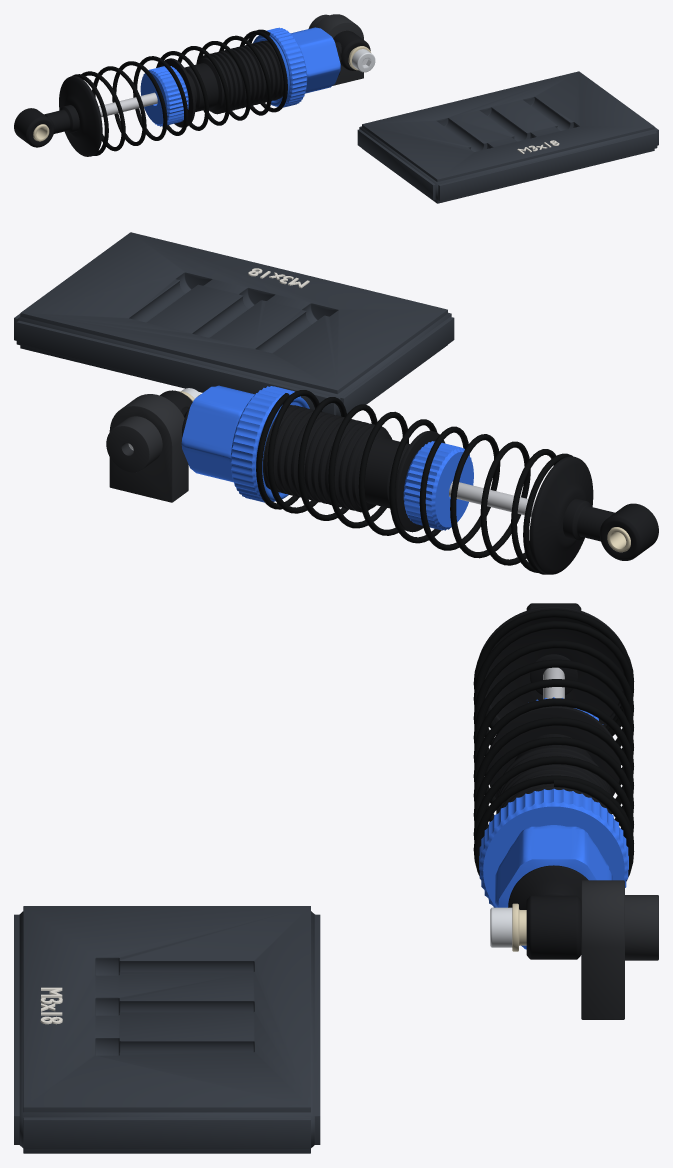
File: shock-stage1.glb
3 views of the same model, one above another, from view 1: azimuth 30°, elevation 25°; view 2: azimuth 150°, elevation 25°; view 3: azimuth 270°, elevation 25° (orthographic). The views are drawn at different scales.
Parts seen in each view (by area): view 1: tray, FTX6204_spring, FTX6208_body, FTX6212_cup, FTX6210_cap, FTX6211_nut, FTX6212_ring, tower_ear_stub_GUESS, FTX6500_eye, FTX6500_neck, FTX6210_eye, FTX6211_washer (+3 smaller); view 2: tray, FTX6204_spring, FTX6208_body, tower_ear_stub_GUESS, FTX6212_cup, FTX6210_cap, FTX6211_nut, FTX6212_ring, FTX6500_eye, FTX6500_neck, FTX6211_washer, FTX6206_shaft; view 3: tray, FTX6204_spring, tower_ear_stub_GUESS, FTX6212_ring, FTX6212_cup, FTX6210_cap, FTX6210_eye, FTX6211_washer, FTX6208_body, FTX6210_neck, screw_m3x18.
Boxes of the visible parts, x1,y1,x2,y2 form: tray: (357, 71, 658, 203); FTX6204_spring: (72, 29, 287, 155); FTX6208_body: (184, 40, 283, 114); FTX6212_cup: (59, 76, 102, 156); FTX6210_cap: (291, 27, 340, 93); FTX6211_nut: (140, 66, 188, 126); FTX6212_ring: (259, 27, 307, 107); tower_ear_stub_GUESS: (308, 14, 363, 85); FTX6500_eye: (14, 108, 54, 147); FTX6500_neck: (44, 105, 79, 133); FTX6210_eye: (333, 30, 370, 70); FTX6211_washer: (160, 58, 195, 127); tray: (14, 232, 454, 416); FTX6204_spring: (256, 390, 572, 574); FTX6208_body: (263, 405, 409, 512); tower_ear_stub_GUESS: (106, 394, 188, 502); FTX6212_cup: (529, 456, 593, 574); FTX6210_cap: (181, 385, 254, 482); FTX6211_nut: (403, 441, 473, 530); FTX6212_ring: (230, 386, 300, 502); FTX6500_eye: (599, 503, 658, 560); FTX6500_neck: (563, 499, 614, 541); FTX6211_washer: (395, 430, 445, 532); FTX6206_shaft: (449, 481, 535, 516); tray: (14, 906, 320, 1153); FTX6204_spring: (473, 609, 634, 881); tower_ear_stub_GUESS: (581, 880, 658, 1019); FTX6212_ring: (479, 788, 628, 907); FTX6212_cup: (479, 606, 626, 726); FTX6210_cap: (495, 825, 612, 949); FTX6210_eye: (526, 895, 581, 959); FTX6211_washer: (487, 706, 620, 798); FTX6208_body: (496, 734, 611, 814); FTX6210_neck: (508, 865, 588, 909); screw_m3x18: (490, 907, 512, 947).
Bounding box in the file's own units: 0.1503 × 0.022 × 0.0884.
